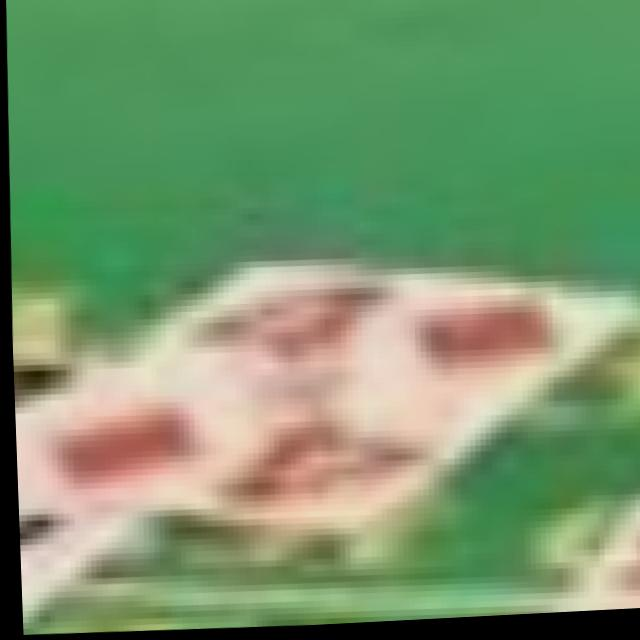Card-4: (12, 269, 631, 559)
